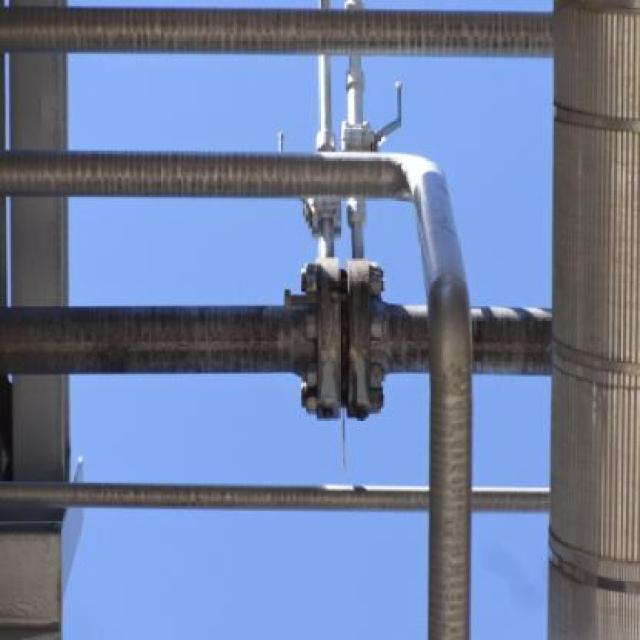gas: (4, 302, 545, 383), (1, 1, 552, 62), (1, 145, 442, 198), (2, 479, 429, 526), (431, 311, 477, 640), (477, 487, 548, 515)
